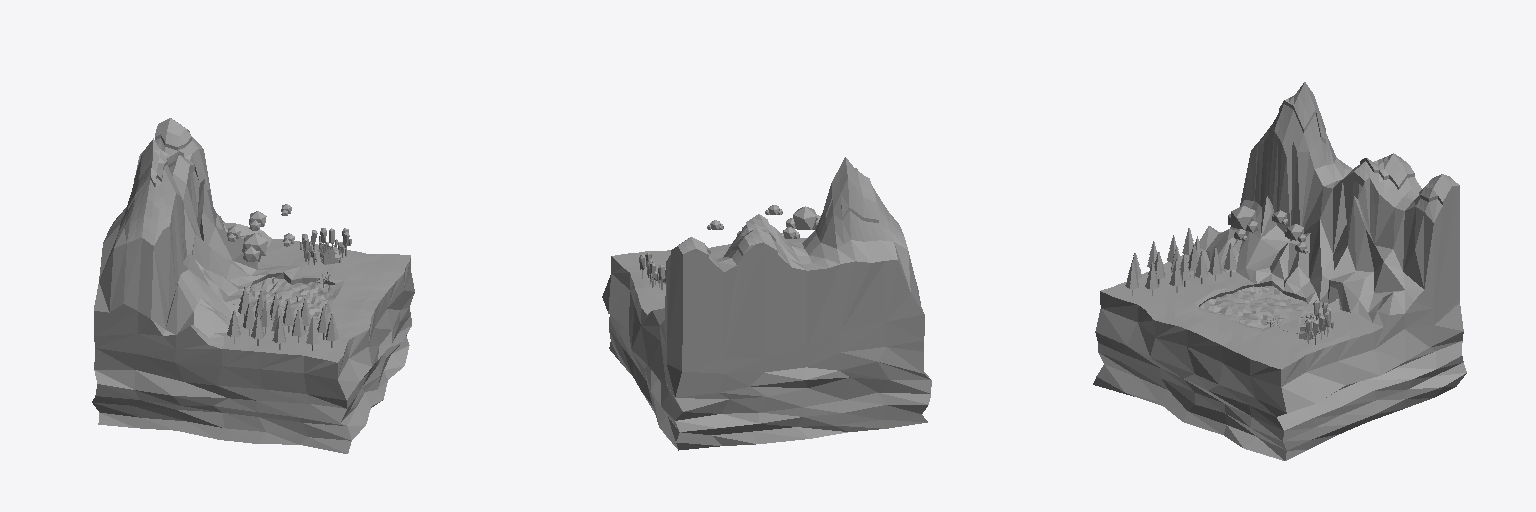
The model's file is training01.obj.
The picture shows the model from 3 angles: view 1: azimuth 30°, elevation 25°; view 2: azimuth 150°, elevation 25°; view 3: azimuth 270°, elevation 25°; orthographic projection.
Parts seen in each view (by area): view 1: Cube_Cube.003, Plane, Icosphere.027_Icosphere.040; view 2: Cube_Cube.003, Icosphere.027_Icosphere.040; view 3: Cube_Cube.003, Plane, Icosphere.027_Icosphere.040.
Boxes of the visible parts, box(x1,y1,x2,y2) form: Cube_Cube.003: box(92, 118, 414, 453); Plane: box(248, 277, 334, 317); Icosphere.027_Icosphere.040: box(242, 233, 267, 261); Cube_Cube.003: box(602, 157, 931, 450); Icosphere.027_Icosphere.040: box(786, 206, 820, 229); Cube_Cube.003: box(1093, 82, 1466, 460); Plane: box(1200, 286, 1307, 328); Icosphere.027_Icosphere.040: box(1228, 206, 1258, 232).
Bounding box in the file's own units: 4.65 × 3.57 × 4.64.